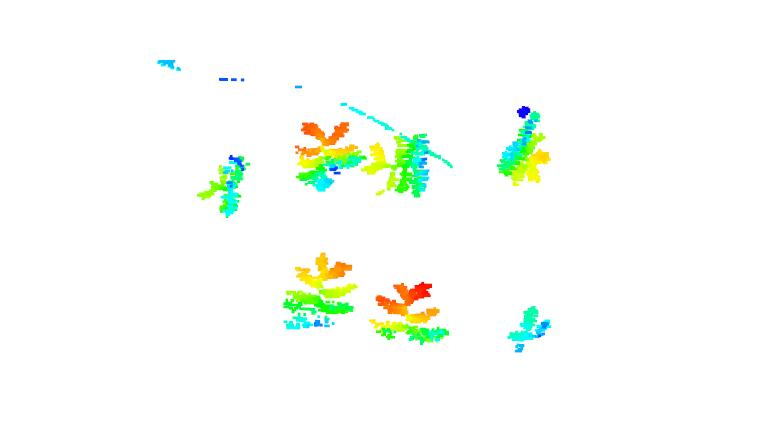chickpea: (286, 252, 358, 331), (293, 115, 364, 193), (369, 279, 450, 347), (367, 132, 433, 198), (497, 109, 548, 186), (198, 155, 253, 215), (507, 304, 550, 354)
